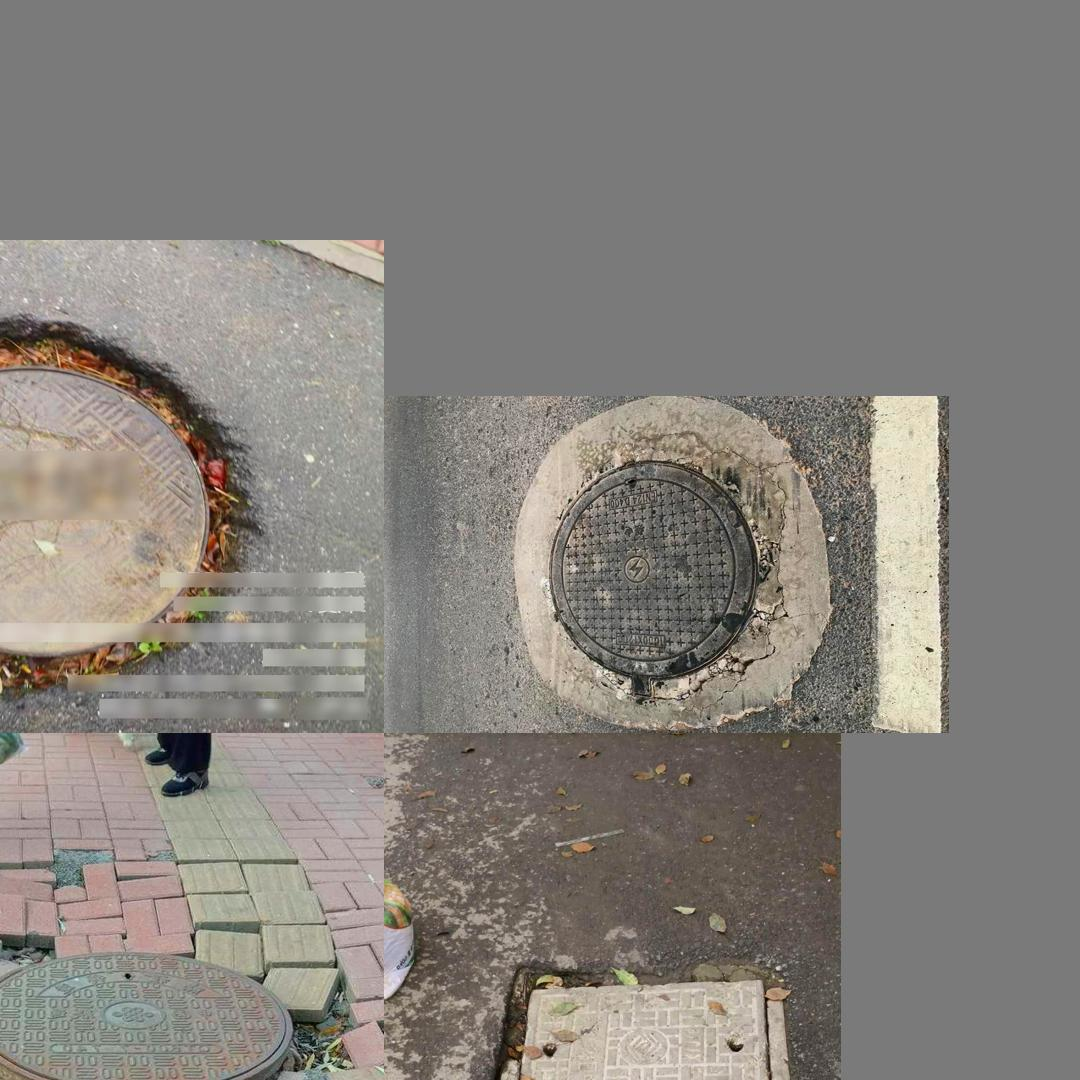circle: (516, 405, 829, 726), (0, 319, 265, 690), (0, 871, 372, 1080), (441, 965, 802, 1080)
